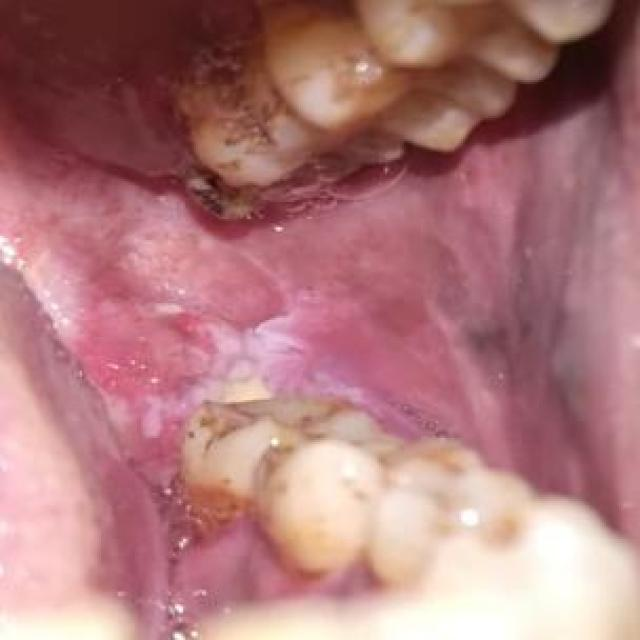leukoplakia-detection: (2, 120, 452, 494)
processing_area: (0, 1, 638, 638)
